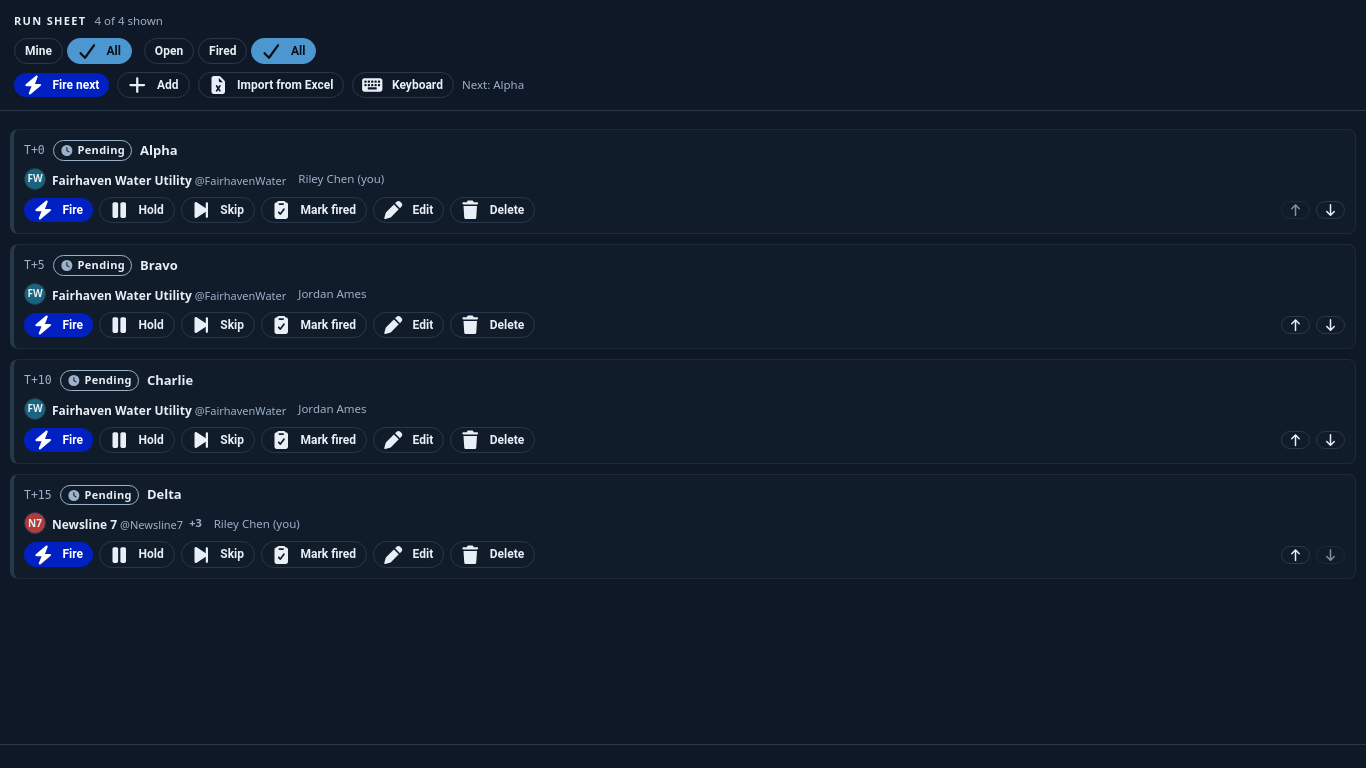
Test: RunSheetPanel — Fire, Fire next › an unknown firer falls back to "another controller"
Step 1. Click the button with aria-label "Fire Alpha" → (58, 210), box 24,198 -> 93,222
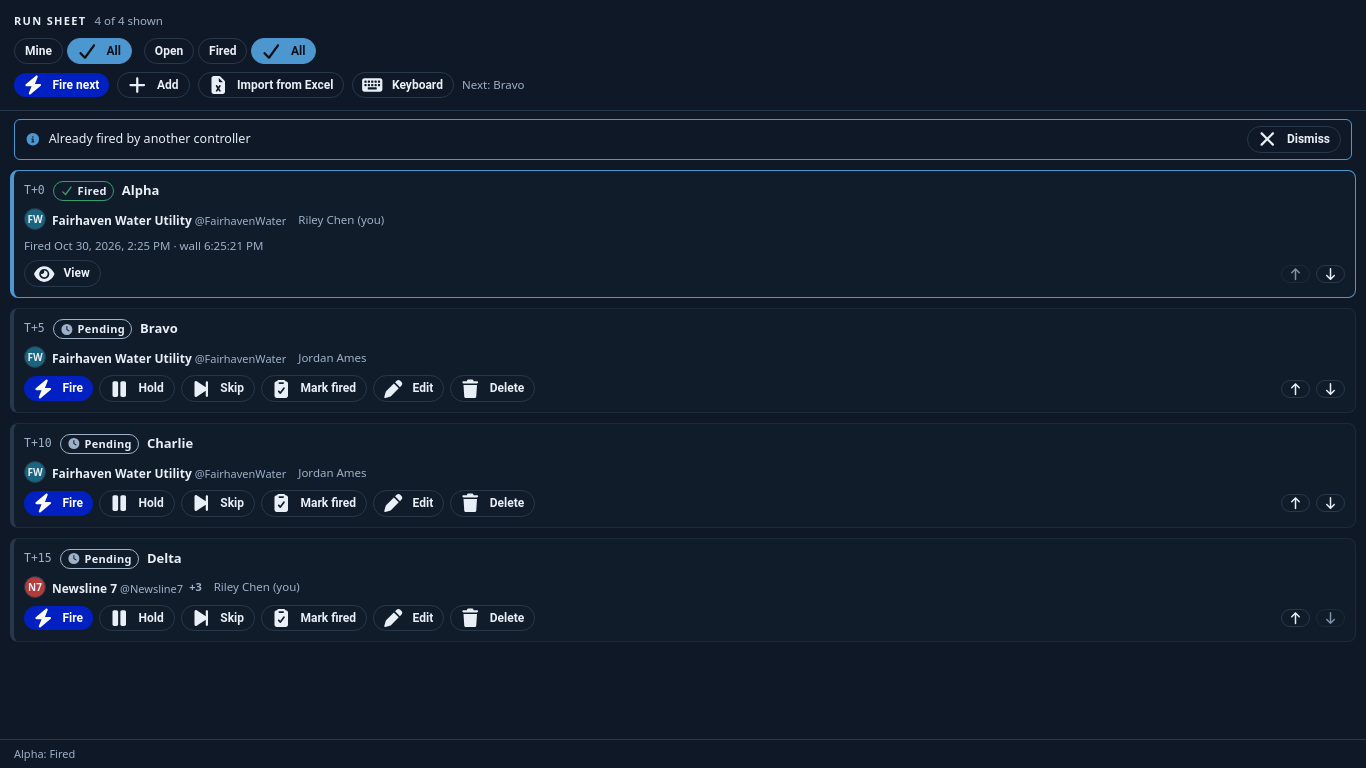
Expected: the text "Already fired by another controller" is shown, 49,130 -> 250,147
